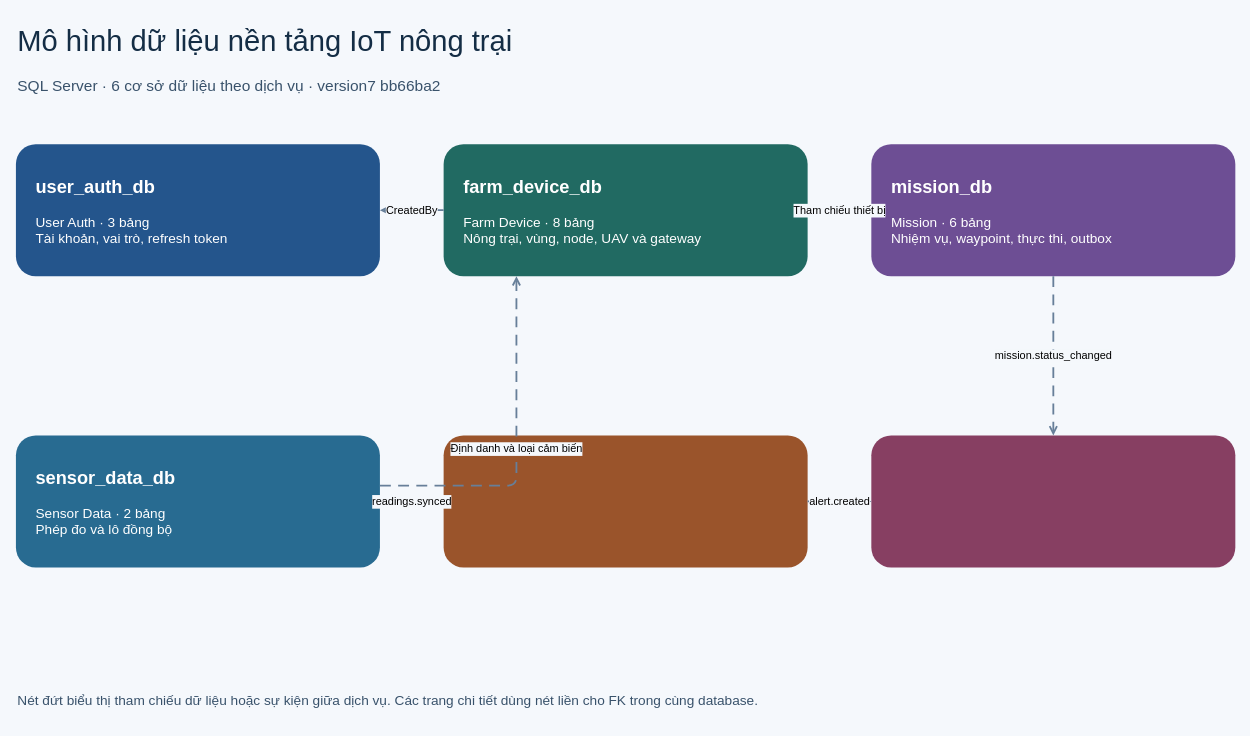
Image size: 1250x736. Some labels were removed from this diagram. Each missing label, with the centre of its shape:
alert_db Alert · 1 bảng Cảnh báo và trạng thái xử lý: pixel 625 501
notification_db Notification · 3 bảng Hộp thư, gửi email, chống lặp sự kiện: pixel 1053 501
